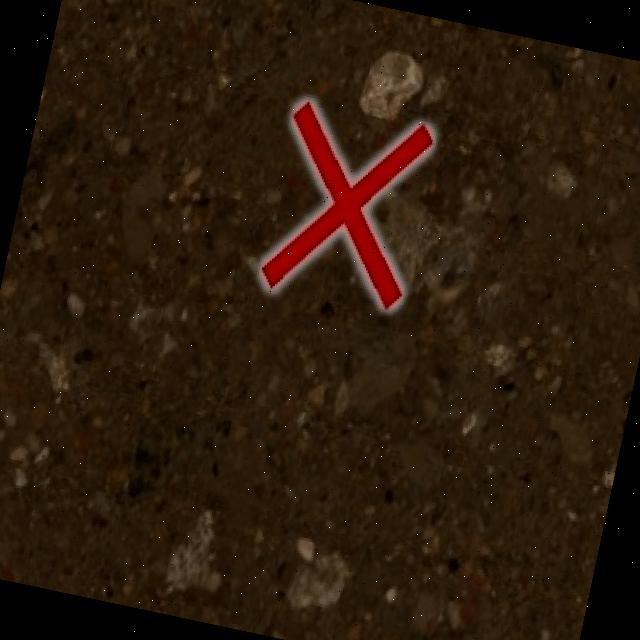x_marker: (258, 98, 436, 313)
